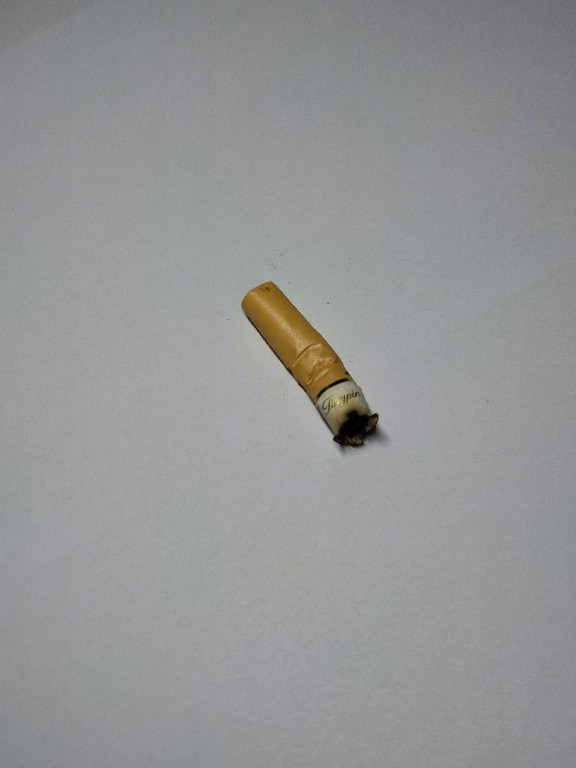cigarette: (237, 279, 383, 450)
